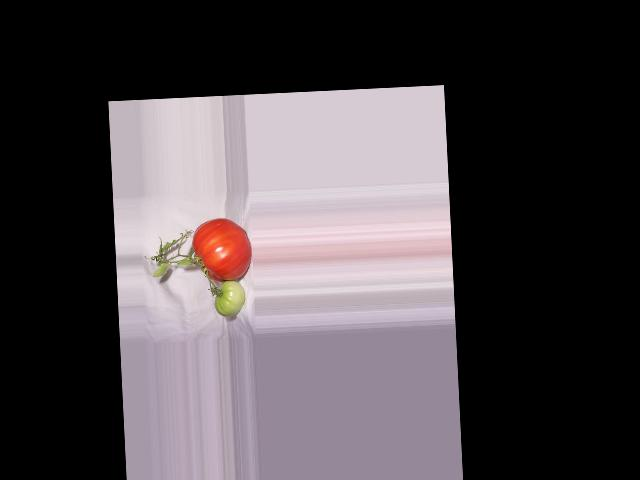tomato: (191, 217, 252, 283)
